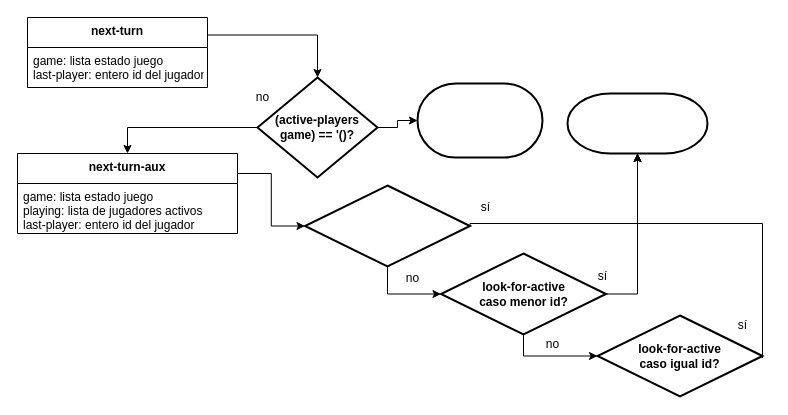
The diagram is 788 pixels wide and 415 high, and some of its shapes have lost their labels. The shapes that lost their labels are listed below. From the top down, each one's centre as x and y in pixels, then its label:
At [479,120]: "Salida que causa el inicio del turno del croupier".
At [637,123]: "Salida que determina jugador de siguiente turno".
At [387,225]: "look-for-active caso mayor id?".
